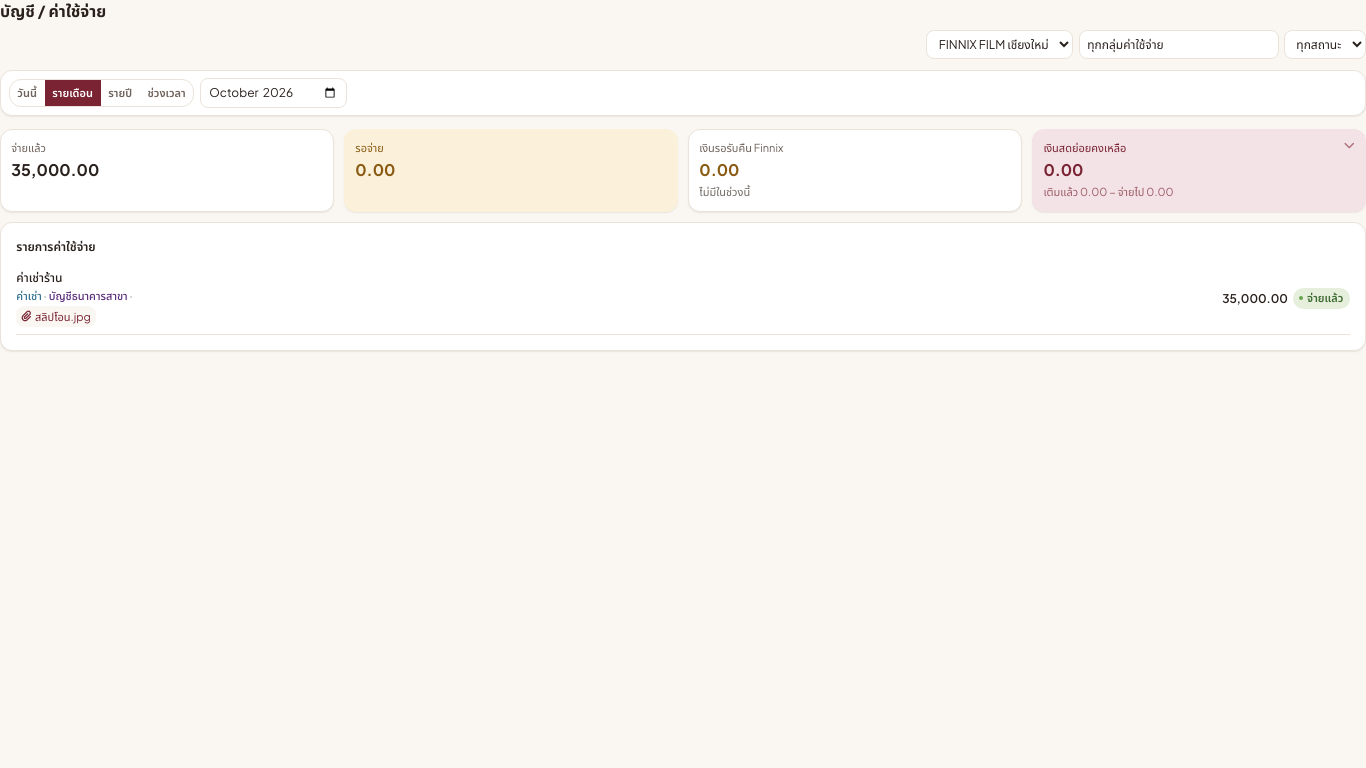
Test: AccountingModule attachments › previews a stored receipt in place, through a signed URL rather than a download
What coordinates should you click on to do the following:
click the button titled "เปิด สลิปโอน.jpg"
I would click on:
 (56, 317)
Its box is top-left (16, 306), bottom-right (96, 327).
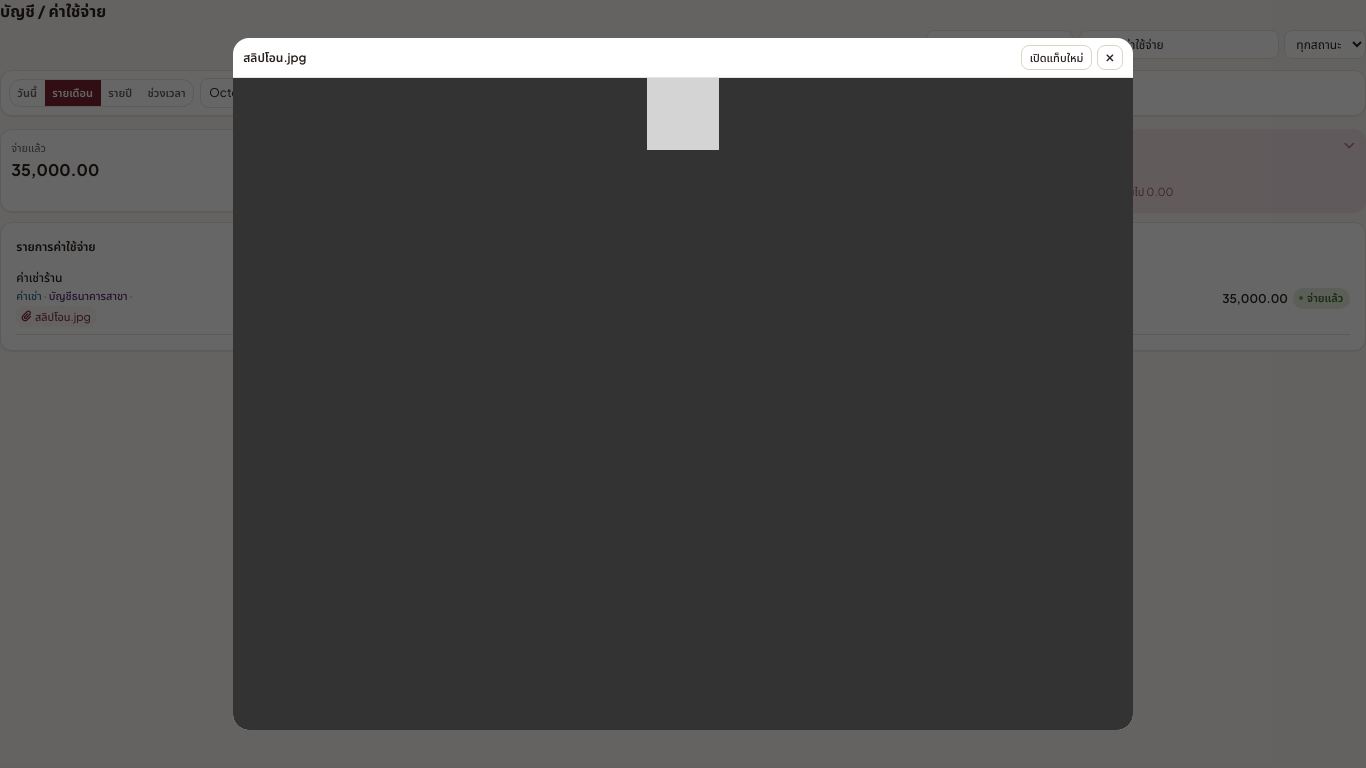
What coordinates should you click on to do the following:
click the button named "ปิดหน้าต่างดูไฟล์แนบ"
I would click on:
 (1110, 58)
Its box is top-left (1097, 45), bottom-right (1123, 70).
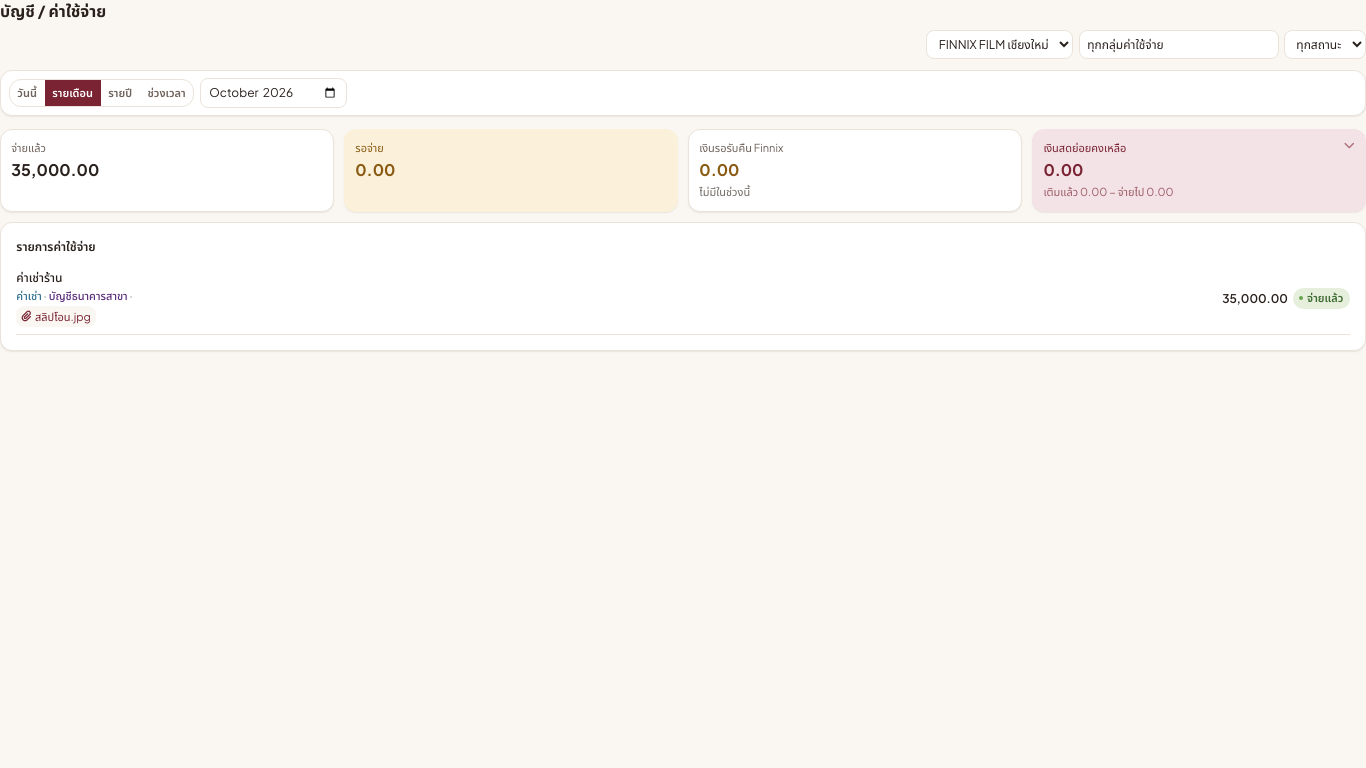
Result: the dialog is gone
